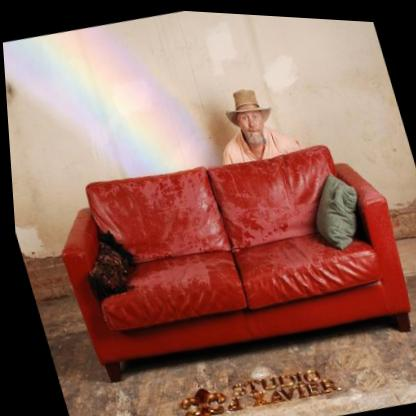Sofa: (35, 113, 416, 399)
